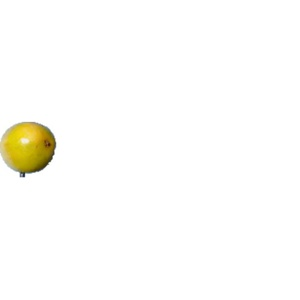maracujá: (1, 122, 62, 178)
